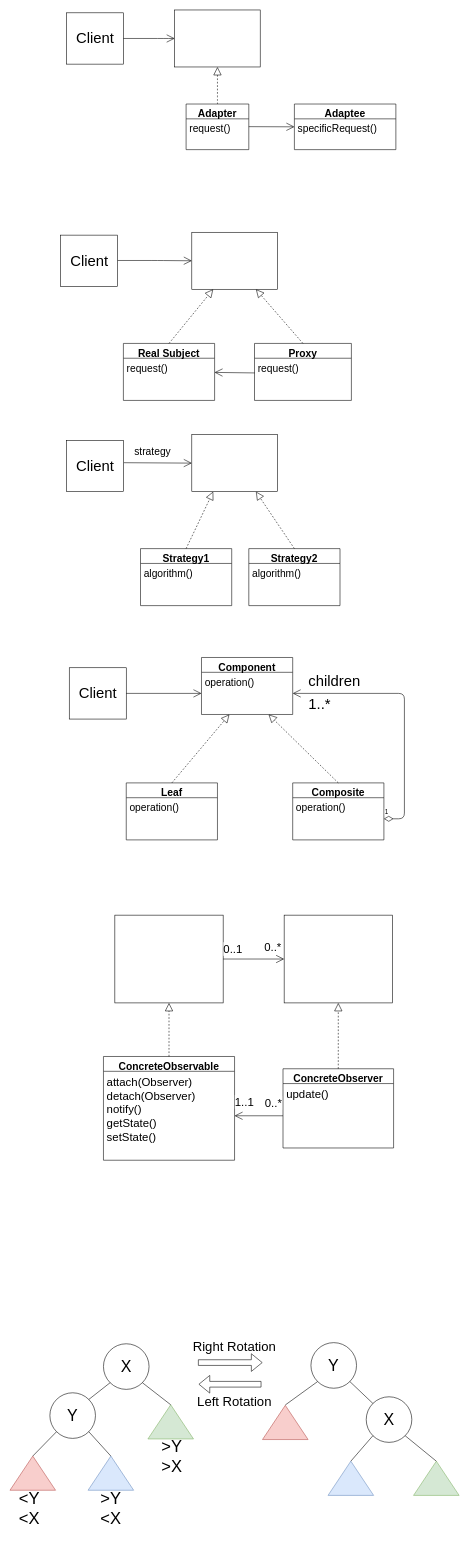
This 469x1550 diagram has some shape labels left out. Each missing label, with the centre of its shape:
"<<Interface>> Observable attach(Observer) detach(Observer) notify()" belongs at (168,959).
"<<Interface>> Observer update()" belongs at (338,959).
"<<Interface>> Strategy algorithm()" belongs at (234,463).
"<<Interface>> Subject request()" belongs at (234,260).
"<<Interface>> Target request()" belongs at (217,38).
